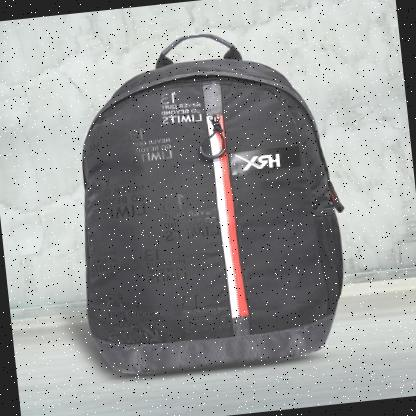bag: (47, 13, 364, 390)
